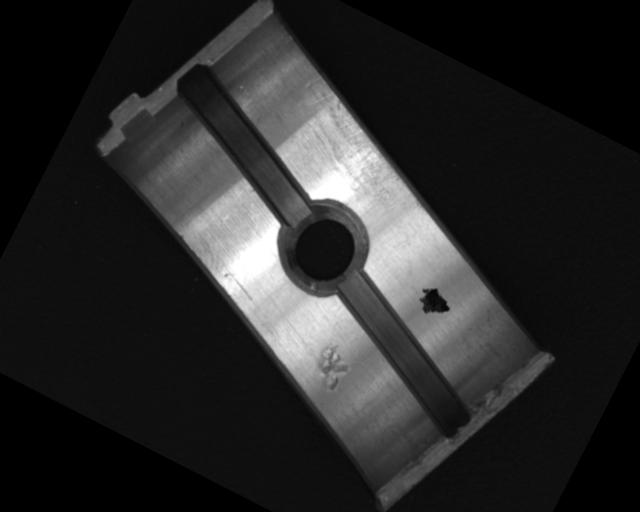blot: (411, 281, 457, 326)
bruise: (305, 336, 361, 396)
gap: (138, 57, 346, 236), (300, 266, 505, 442)
hole: (269, 188, 378, 307)
scratch: (268, 69, 438, 221)
